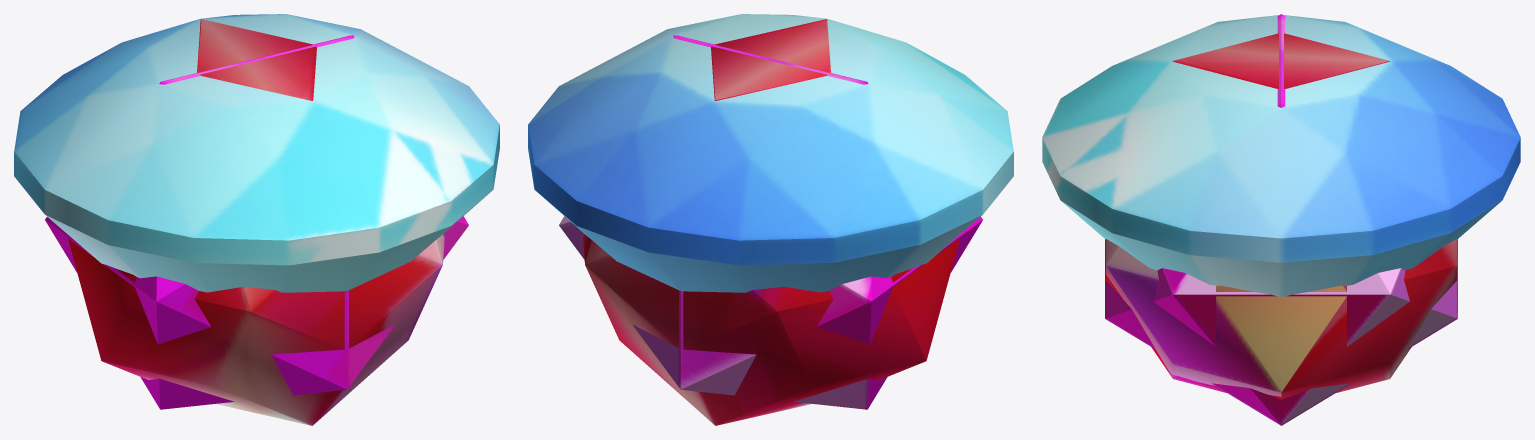
File: diamonds.fbx
3 renders of one model, left to right at view 1: azimuth 30°, elevation 25°; view 2: azimuth 150°, elevation 25°; view 3: azimuth 270°, elevation 25°, orthographic. The views are drawn at different scales.
Visible parts, largest first — view 1: diamond, rhombic_triacontahedron, icosahedron; view 2: diamond, rhombic_triacontahedron, icosahedron; view 3: diamond, rhombic_triacontahedron, icosahedron.
Boxes of the visible parts, x1,y1,x2,y2 form: diamond: (14, 14, 499, 292); rhombic_triacontahedron: (68, 19, 444, 425); icosahedron: (45, 35, 468, 409); diamond: (528, 14, 1013, 292); rhombic_triacontahedron: (583, 19, 959, 425); icosahedron: (559, 35, 982, 409); diamond: (1042, 15, 1520, 296); rhombic_triacontahedron: (1106, 33, 1456, 399); icosahedron: (1105, 14, 1457, 425).
Bounding box in the file's own units: 219 × 162 × 219.
